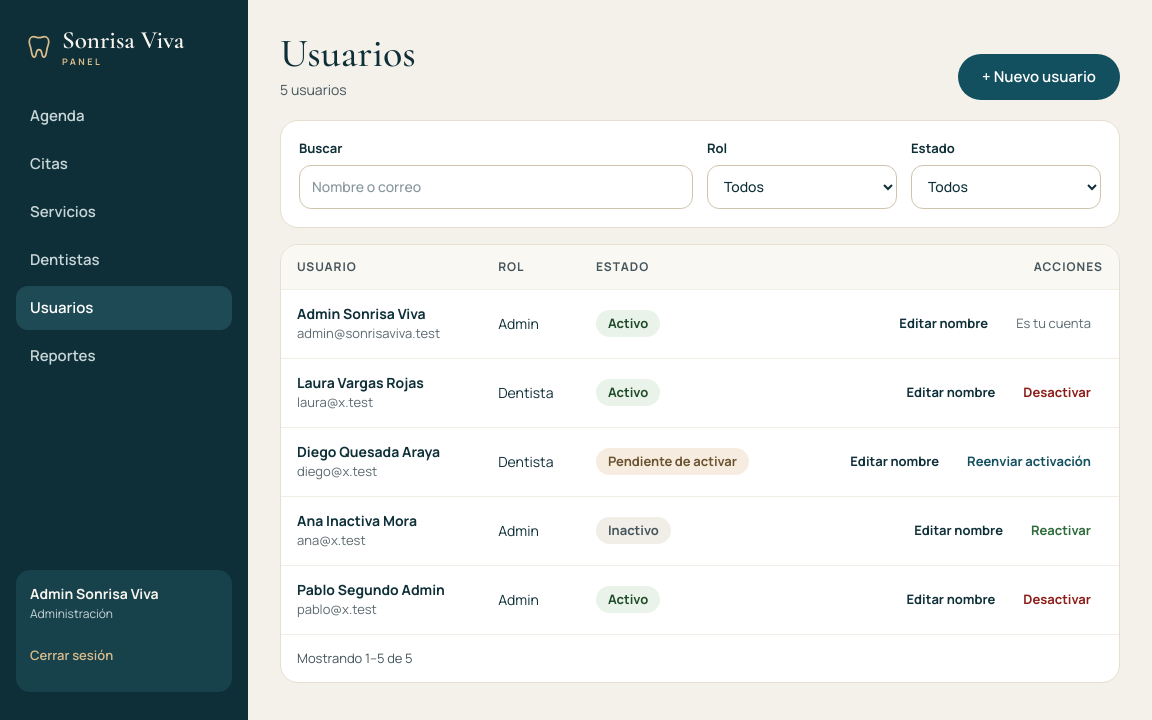
Test: Usuarios › desactivar sin citas confirma y cambia el estado
Click the button with aria-label "Desactivar a Pablo Segundo Admin" at (1057,600), box top-left (1011, 578), bottom-right (1103, 622)
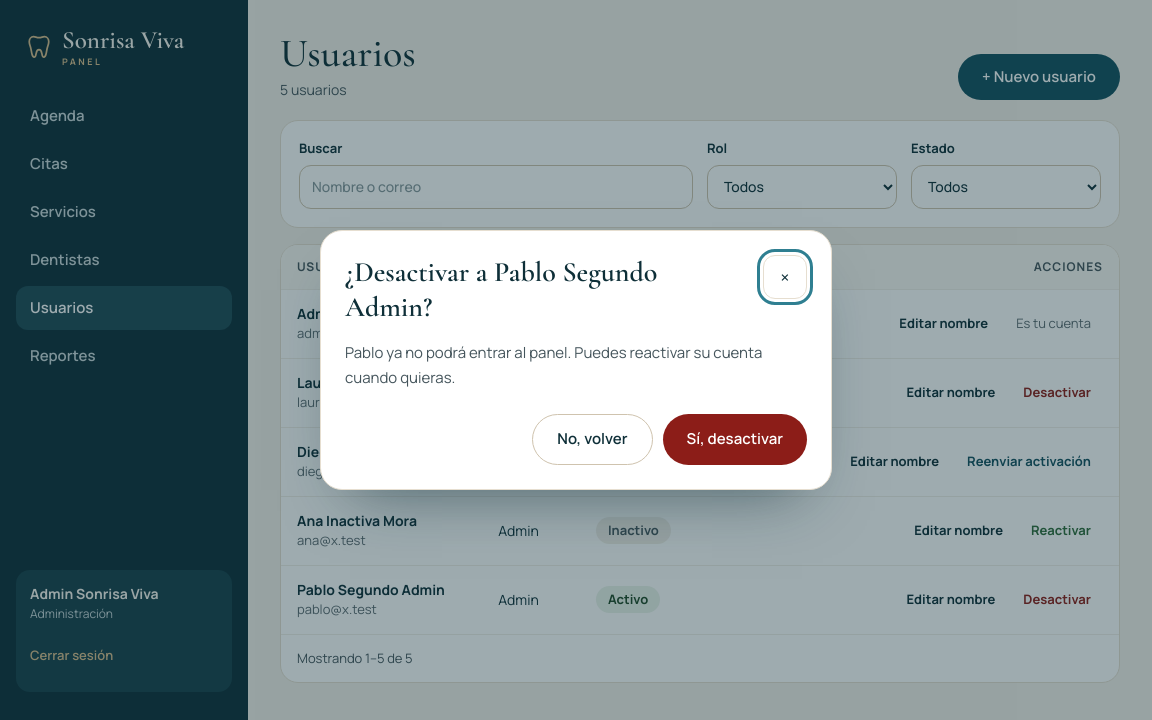
Expected: the text "ya no podrá entrar al panel" is shown, top-left (383, 342), bottom-right (568, 363)
Click the button "Sí, desactivar" at (735,439), box top-left (663, 414), bottom-right (807, 465)
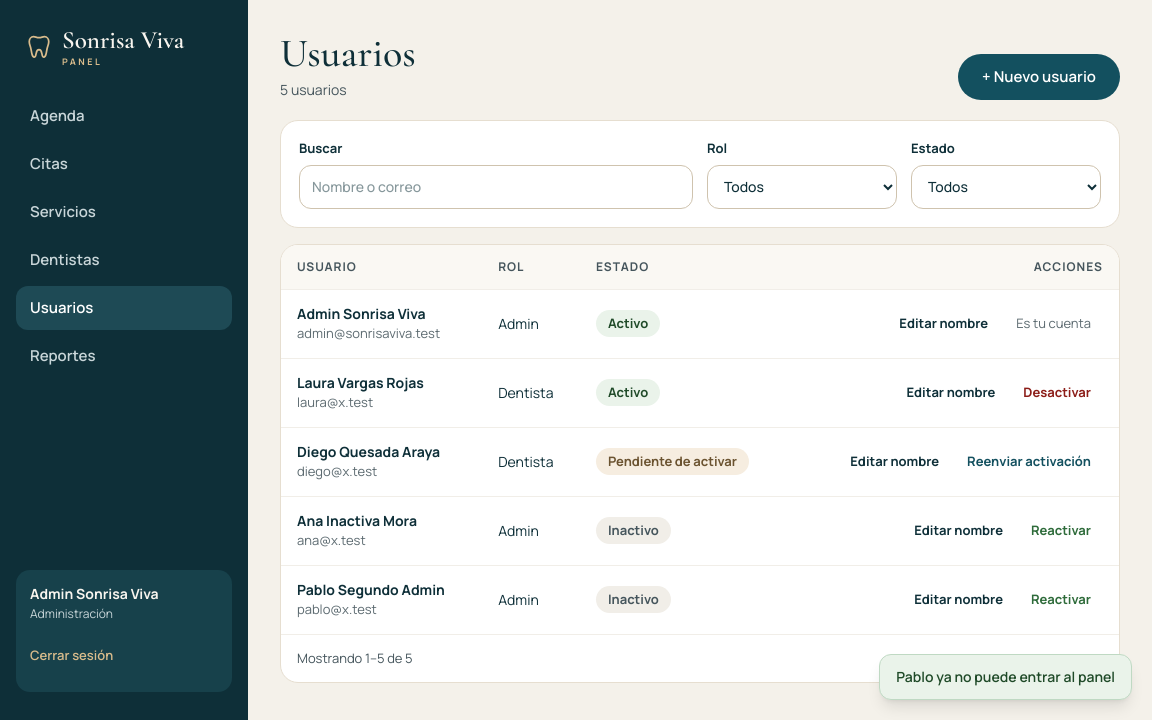
Expected: the text "Inactivo" in the row of "Pablo Segundo Admin" is shown, top-left (608, 590), bottom-right (659, 608)
Expected: the button with aria-label "Reactivar a Pablo Segundo Admin" is shown, top-left (1019, 578), bottom-right (1103, 622)
